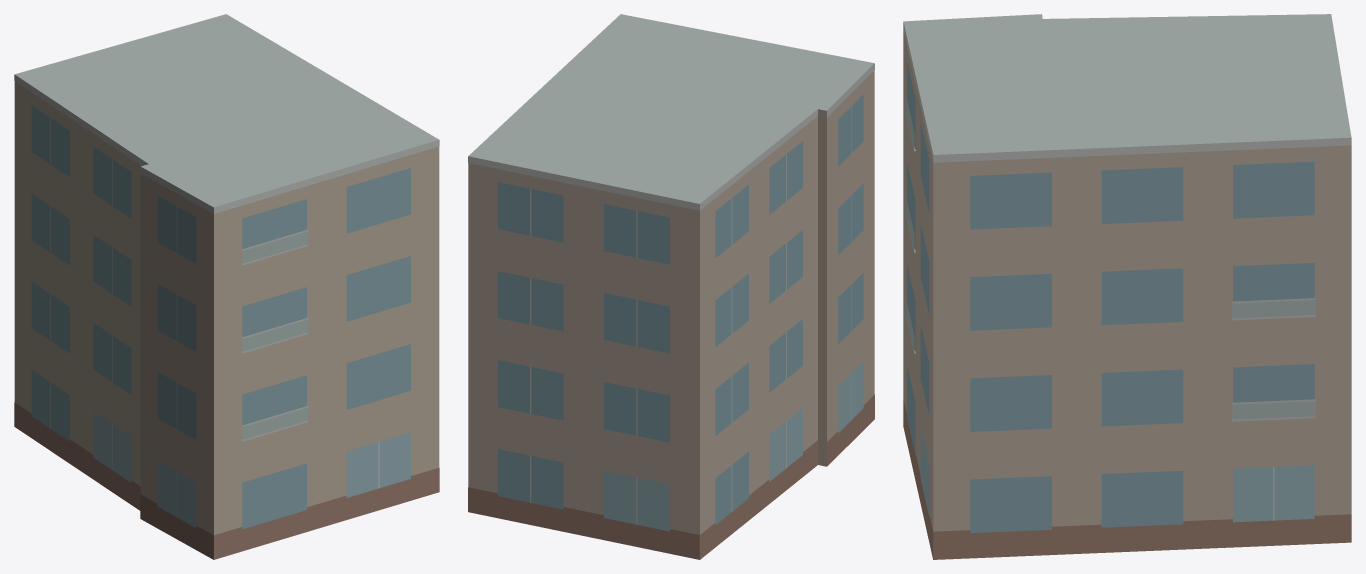
The model's file is survey-upis-32539533.glb.
3 views of the same model, side by side, from view 1: azimuth 30°, elevation 25°; view 2: azimuth 150°, elevation 25°; view 3: azimuth 270°, elevation 25° (orthographic). The views are drawn at different scales.
Parts seen in each view (by area): view 1: survey-upis-32539533.tmp; view 2: survey-upis-32539533.tmp; view 3: survey-upis-32539533.tmp.
Boxes of the visible parts, left/top/right/bottom form: survey-upis-32539533.tmp: left=14, top=14, right=439, bottom=559; survey-upis-32539533.tmp: left=468, top=14, right=874, bottom=559; survey-upis-32539533.tmp: left=903, top=14, right=1351, bottom=559.
Bounding box in the file's own units: 9.65 × 12.9 × 12.95.
